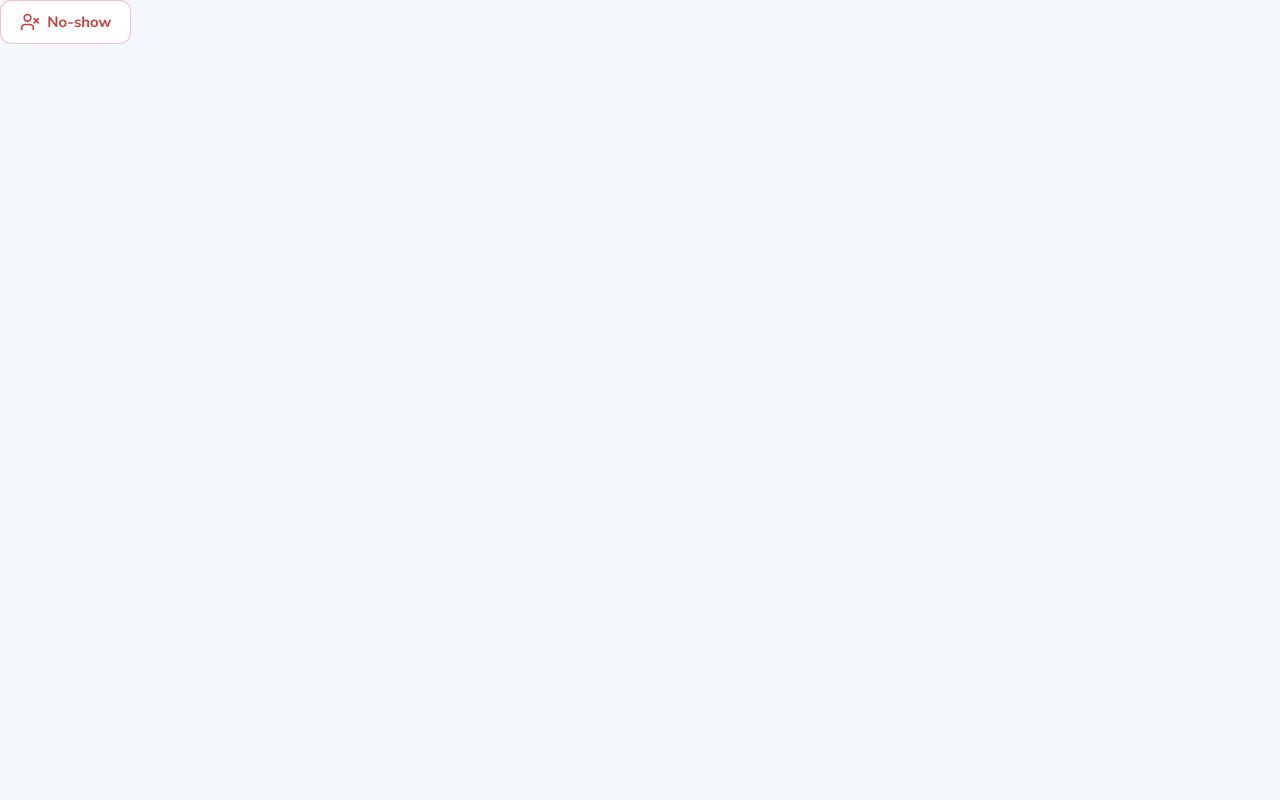
NoShowButton › asks for confirmation in an in-app dialog before marking
Later steps or results of the test are not shown.
Click the button "No-show": (66, 22) x1=0 y1=0 x2=131 y2=44
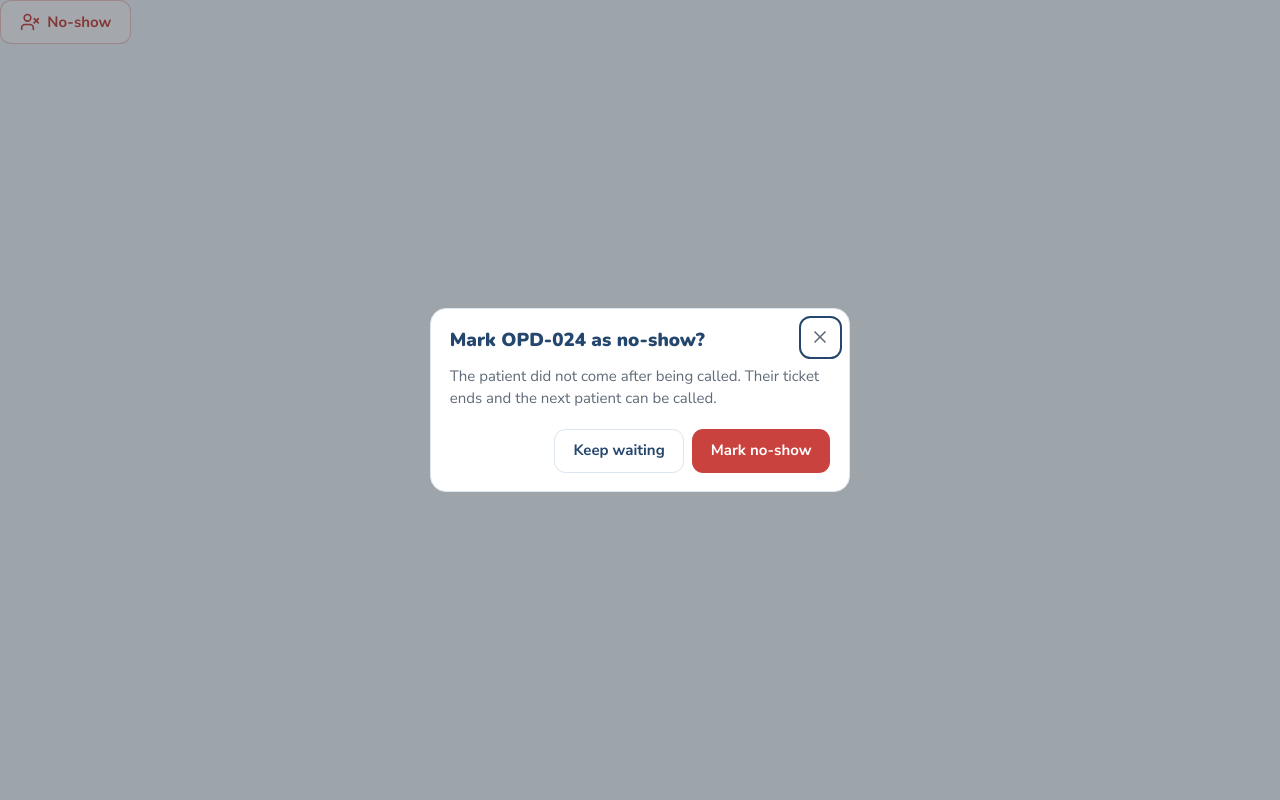
Result: the dialog "Mark OPD-024 as no-show?" is shown at x1=430 y1=308 x2=850 y2=492
